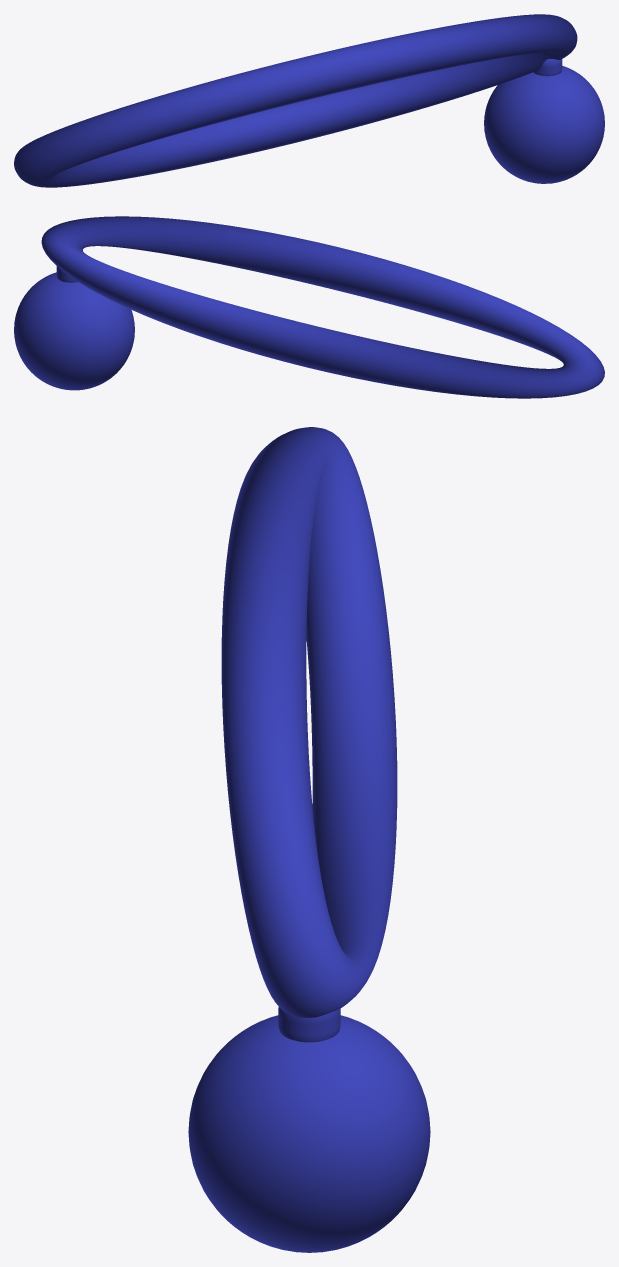
File: zcollar-allblu-tag-3d.glb
The picture shows the model from 3 angles, top to bottom: view 1: azimuth 30°, elevation 25°; view 2: azimuth 150°, elevation 25°; view 3: azimuth 270°, elevation 25°; orthographic projection. The views are drawn at different scales.
Parts seen in each view (by area): view 1: mesh_id38, mesh_id64, mesh_id72; view 2: mesh_id38, mesh_id64; view 3: mesh_id38, mesh_id64, mesh_id72.
Part boxes in pixels (x1,y1,x2,y2): mesh_id38: (14,14,577,187); mesh_id64: (484,66,604,183); mesh_id72: (533,59,562,76); mesh_id38: (41,216,604,398); mesh_id64: (14,272,134,390); mesh_id38: (221,427,397,1017); mesh_id64: (188,1015,430,1252); mesh_id72: (278,1007,340,1042).
Size of the model in its own units: 0.3325 by 0.1031 by 0.06.
Materials: 3 (3 with a texture image).
